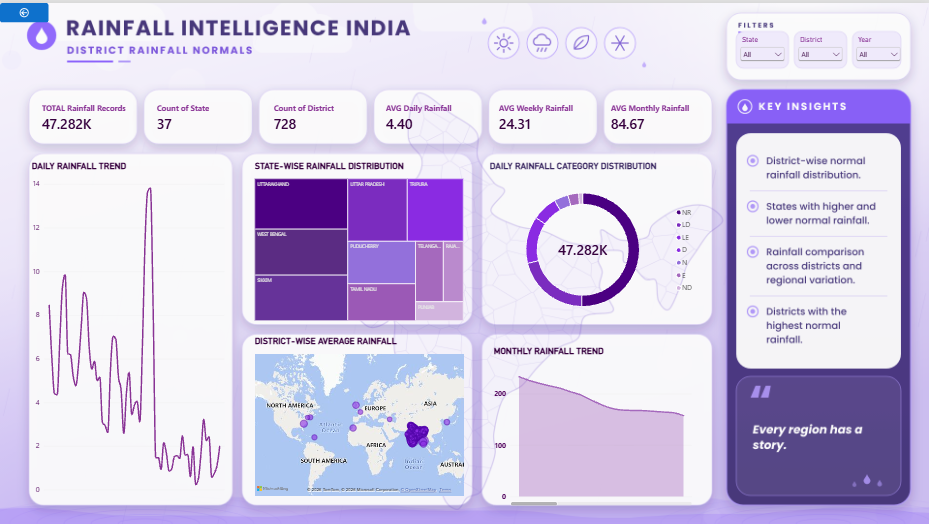

The page's visual inventory and layout, read from the dashboard file:
{"tool":"powerbi","page":{"name":"District Rainfall Normal Intelligence","canvas":[1920,1080],"ordinal":2},"visuals":[{"type":"cardVisual","fields":{"Data":["CountNonNull(rainfall_districtwise_daily_clean.Date)"]},"box":[70.6,189,236.9,95.7],"z":0},{"type":"cardVisual","fields":{"Data":["Count(rainfall_districtwise_daily_clean.State)"]},"box":[307.4,189,201.6,95.7],"z":1000},{"type":"cardVisual","fields":{"Data":["Count(rainfall_districtwise_daily_clean.District)"]},"box":[549.3,189,201.6,95.7],"z":2000},{"type":"cardVisual","fields":{"Data":["Avg(rainfall_districtwise_daily_clean.Daily Actual)"]},"box":[781.1,189,201.6,95.7],"z":3000},{"type":"cardVisual","fields":{"Data":["Avg(rainfall_districtwise_daily_clean.Weekly Actual)"]},"box":[1012.9,189,211.7,95.7],"z":4000},{"type":"cardVisual","fields":{"Data":["Avg(rainfall_districtwise_daily_clean.Monthly Acutual)"]},"box":[1244.7,189,226.8,95.7],"z":5000},{"type":"slicer","fields":{"Values":["rainfall_districtwise_daily_clean.State"]},"box":[1524.4,68,100.8,68],"z":6000},{"type":"slicer","fields":{"Values":["rainfall_districtwise_daily_clean.District"]},"box":[1642.8,68,100.8,68],"z":7000},{"type":"slicer","fields":{"Values":["rainfall_districtwise_daily_clean.Year"]},"box":[1763.8,68,100.8,68],"z":8000},{"type":"actionButton","box":[0,0,100,40],"z":9000},{"type":"lineChart","title":"DAILY RAINFALL TREND","fields":{"Category":["rainfall_districtwise_daily_clean.Date"],"Y":["Avg(rainfall_districtwise_daily_clean.Daily Actual)"]},"box":[50,312.5,430,720],"z":10000},{"type":"treemap","title":"STATE-WISE RAINFALL DISTRIBUTION","fields":{"Group":["rainfall_districtwise_daily_clean.State"],"Values":["Avg(rainfall_districtwise_daily_clean.Daily Actual)"]},"box":[510,312.5,462.5,360],"z":11000},{"type":"map","title":"DISTRICT-WISE AVERAGE RAINFALL","fields":{"Category":["rainfall_districtwise_daily_clean.District","rainfall_districtwise_daily_clean.State"],"Size":["Avg(rainfall_districtwise_daily_clean.Daily Actual)"]},"box":[510,673,463,360],"z":12000},{"type":"donutChart","title":"DAILY RAINFALL CATEGORY DISTRIBUTION","fields":{"Category":["rainfall_districtwise_daily_clean.Daily Category"],"Y":["CountNonNull(rainfall_districtwise_daily_clean.Daily Category)"]},"box":[995.3,312.4,458.6,360.3],"z":13000},{"type":"areaChart","title":"MONTHLY RAINFALL TREND","fields":{"Category":["rainfall_districtwise_daily_clean.Monthly Date"],"Y":["Avg(rainfall_districtwise_daily_clean.Monthly Acutual)"]},"box":[1002.8,692.9,440.9,360.3],"z":14000}]}

Visuals, with their boxes in screenshot pixels (x1, y1, x2, y2), scaled from the page's 1920x1080 canvas onto the 929x524 screenshot:
cardVisual - CountNonNull(rainfall_districtwise_daily_clean.Date): {"x1": 34, "y1": 92, "x2": 149, "y2": 138}
cardVisual - Count(rainfall_districtwise_daily_clean.State): {"x1": 149, "y1": 92, "x2": 246, "y2": 138}
cardVisual - Count(rainfall_districtwise_daily_clean.District): {"x1": 266, "y1": 92, "x2": 363, "y2": 138}
cardVisual - Avg(rainfall_districtwise_daily_clean.Daily Actual): {"x1": 378, "y1": 92, "x2": 475, "y2": 138}
cardVisual - Avg(rainfall_districtwise_daily_clean.Weekly Actual): {"x1": 490, "y1": 92, "x2": 593, "y2": 138}
cardVisual - Avg(rainfall_districtwise_daily_clean.Monthly Acutual): {"x1": 602, "y1": 92, "x2": 712, "y2": 138}
slicer - rainfall_districtwise_daily_clean.State: {"x1": 738, "y1": 33, "x2": 786, "y2": 66}
slicer - rainfall_districtwise_daily_clean.District: {"x1": 795, "y1": 33, "x2": 844, "y2": 66}
slicer - rainfall_districtwise_daily_clean.Year: {"x1": 853, "y1": 33, "x2": 902, "y2": 66}
actionButton: {"x1": 0, "y1": 0, "x2": 48, "y2": 19}
"DAILY RAINFALL TREND" lineChart: {"x1": 24, "y1": 152, "x2": 232, "y2": 501}
"STATE-WISE RAINFALL DISTRIBUTION" treemap: {"x1": 247, "y1": 152, "x2": 471, "y2": 326}
"DISTRICT-WISE AVERAGE RAINFALL" map: {"x1": 247, "y1": 327, "x2": 471, "y2": 501}
"DAILY RAINFALL CATEGORY DISTRIBUTION" donutChart: {"x1": 482, "y1": 152, "x2": 703, "y2": 326}
"MONTHLY RAINFALL TREND" areaChart: {"x1": 485, "y1": 336, "x2": 699, "y2": 511}
